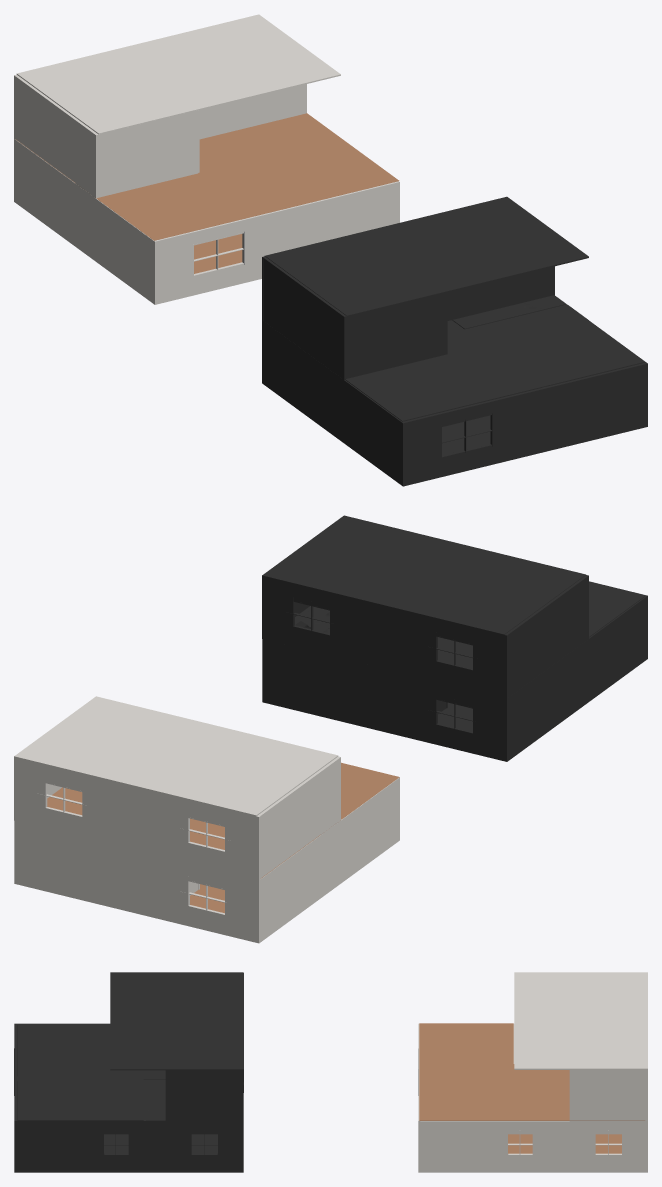
File: burntStructure.fbx
The picture shows the model from 3 angles, top to bottom: view 1: azimuth 30°, elevation 25°; view 2: azimuth 150°, elevation 25°; view 3: azimuth 270°, elevation 25°; orthographic projection. The views are drawn at different scales.
Visible parts, largest first — view 1: pCube82, pCube83, pCube81, sExteriorWall4, pCube162, sExteriorWall, sExteriorWall6, sExteriorWall1, bedroom1InteriorWall7, bedroom1InteriorWall31, bedroom1InteriorWall11, bedroom1InteriorWall29 (+5 smaller); view 2: pCube82, pCube83, nExteriorWall, nExteriorWall4, sExteriorWall6, sExteriorWall1, nExteriorWall2, nExteriorWall6, nExteriorWall3, bedroom1InteriorWall29, nExteriorWall5, bedroom1InteriorWall11 (+5 smaller); view 3: pCube82, pCube83, pCube81, wExteriorWall, wExteriorWall1, pCube162, bedroom1InteriorWall10, bedroom1InteriorWall30, pCube163, pCube88, pCube79, sExteriorWall4 (+1 smaller).
Part boxes in pixels (box(x1,y1,x2,y2)): pCube82: box(16, 14, 340, 134); pCube83: box(265, 196, 588, 315); pCube81: box(15, 113, 399, 240); sExteriorWall4: box(401, 362, 647, 486); pCube162: box(345, 320, 644, 421); sExteriorWall: box(153, 181, 399, 304); sExteriorWall6: box(263, 321, 403, 484); sExteriorWall1: box(15, 140, 153, 303); bedroom1InteriorWall7: box(99, 110, 199, 197); bedroom1InteriorWall31: box(347, 291, 447, 378); bedroom1InteriorWall11: box(15, 75, 98, 198); bedroom1InteriorWall29: box(264, 257, 346, 379); pCube82: box(14, 696, 338, 816); pCube83: box(262, 515, 585, 635); nExteriorWall: box(14, 820, 260, 943); nExteriorWall4: box(262, 639, 508, 761); sExteriorWall6: box(508, 596, 646, 760); sExteriorWall1: box(260, 779, 398, 941); nExteriorWall2: box(115, 782, 260, 879); nExteriorWall6: box(363, 601, 508, 698); nExteriorWall3: box(14, 757, 116, 844); bedroom1InteriorWall29: box(506, 575, 588, 696); nExteriorWall5: box(262, 577, 364, 663); bedroom1InteriorWall11: box(258, 756, 340, 878); pCube82: box(514, 972, 647, 1069); pCube83: box(110, 973, 243, 1070); pCube81: box(419, 1023, 644, 1120); wExteriorWall: box(421, 1121, 645, 1172); wExteriorWall1: box(17, 1120, 240, 1172); pCube162: box(17, 1023, 110, 1120); bedroom1InteriorWall10: box(569, 1070, 645, 1121); bedroom1InteriorWall30: box(165, 1070, 240, 1121); pCube163: box(109, 1065, 143, 1120); pCube88: box(17, 1076, 217, 1153); pCube79: box(508, 1134, 621, 1153); sExteriorWall4: box(14, 1023, 16, 1172).
Bounding box in the file's own units: 300 × 165 × 825.
